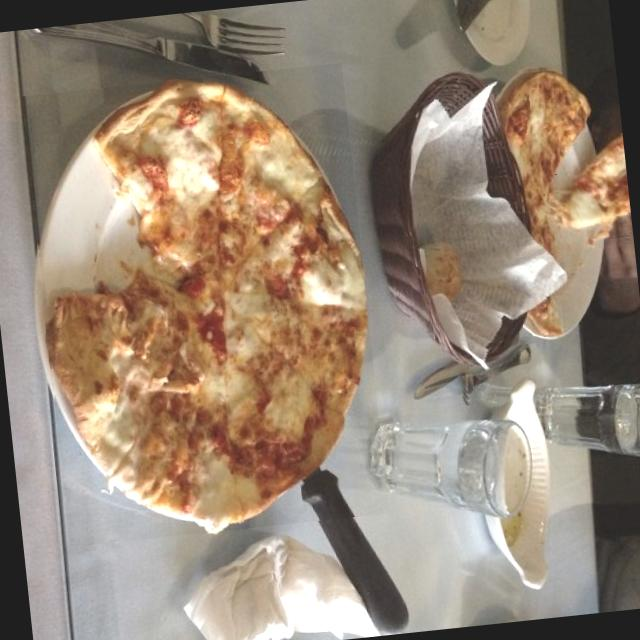pizza: (46, 81, 365, 531), (499, 69, 588, 252), (557, 134, 630, 240), (528, 297, 562, 334)
